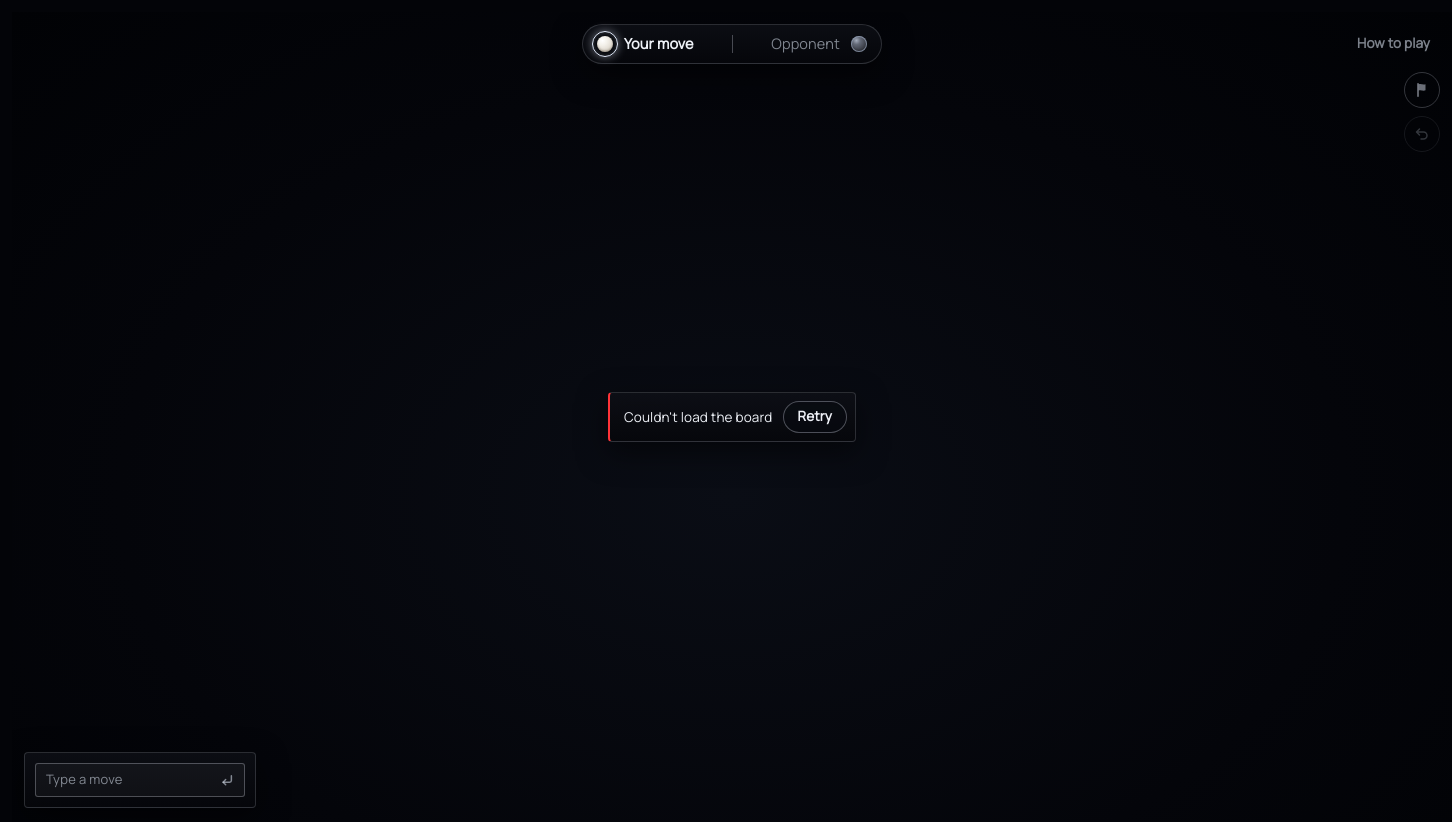
Test: a board that fails to load › shows the board once a retry loads it
This screenshot has width=1452, height=822.
Check: the message "Couldn't load the board Retry" is shown, box left=608, top=392, right=856, bottom=442
Click the button "Retry". click: [815, 417]
box: left=782, top=401, right=847, bottom=433
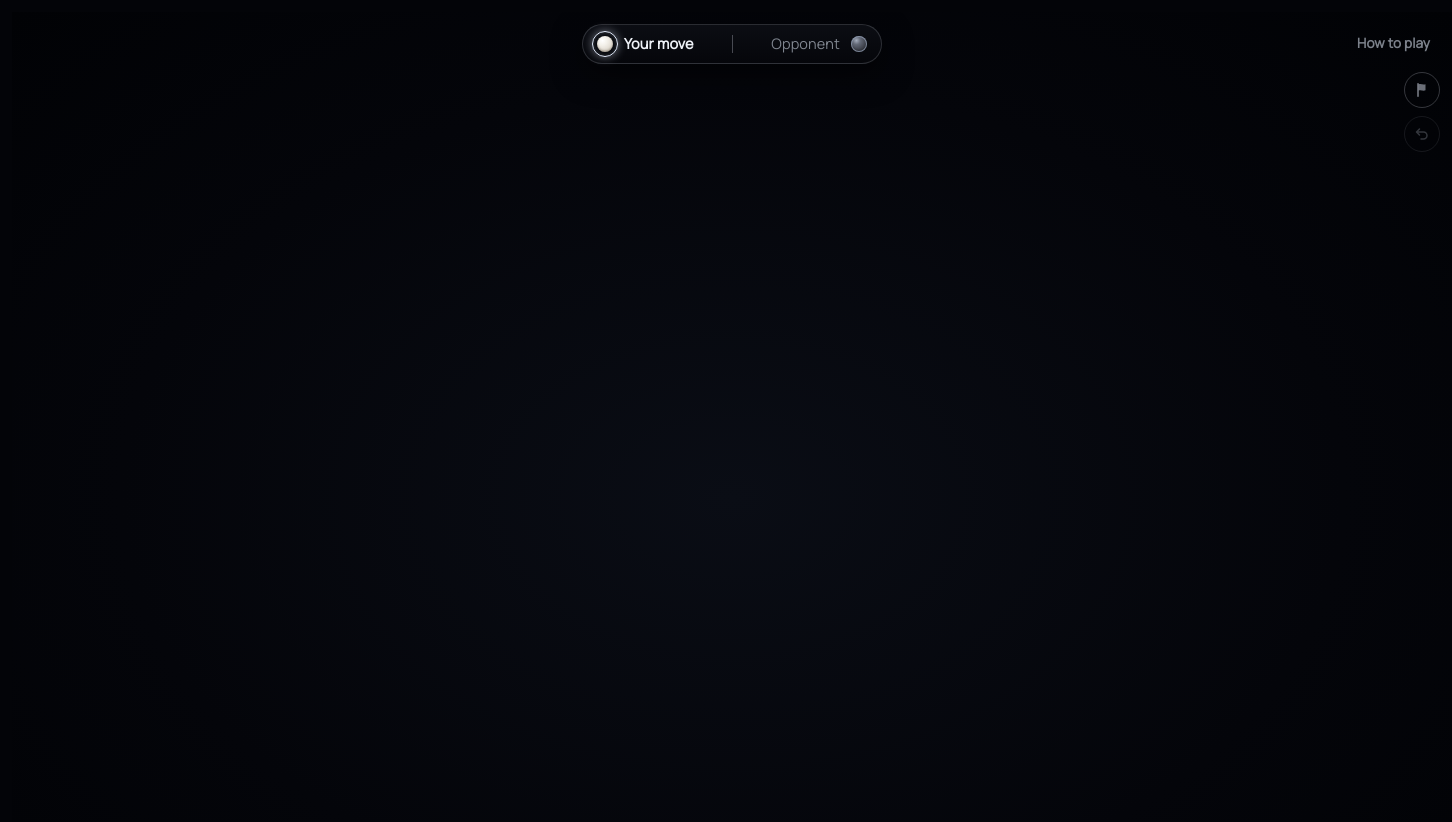
Check: the message with test id "board-failed" is gone
